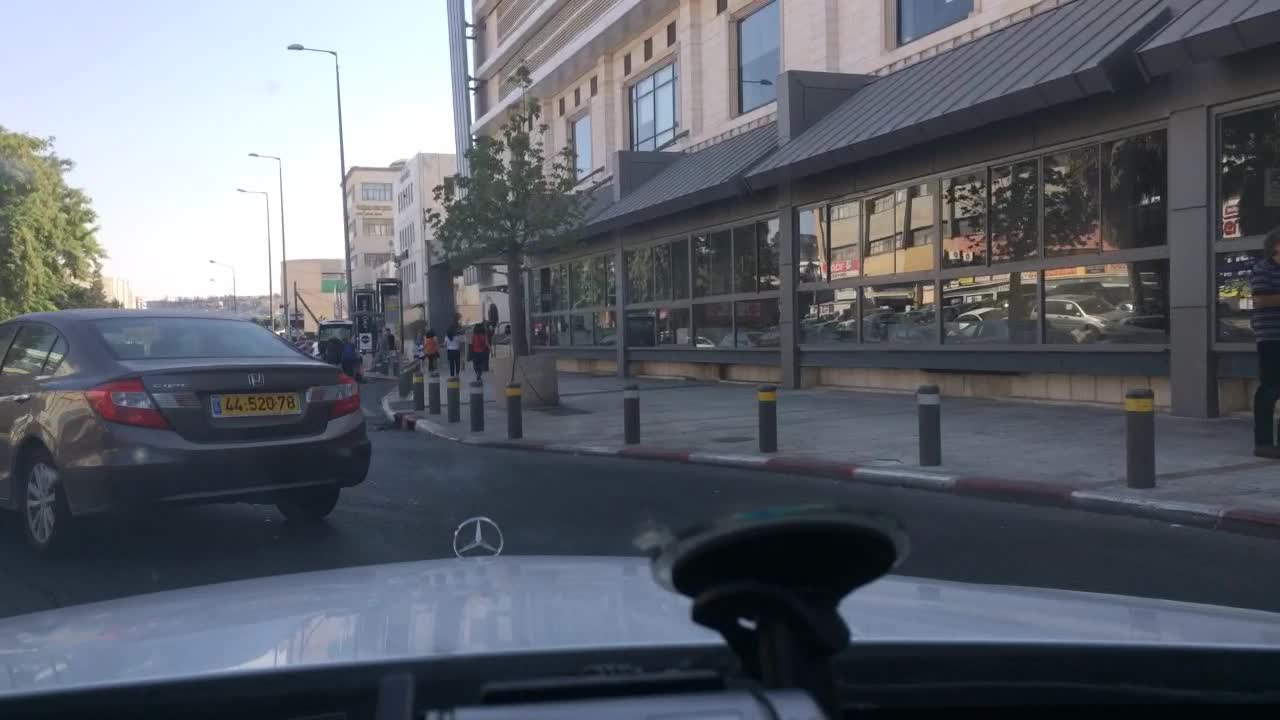car: (0, 305, 374, 550)
person: (1247, 228, 1279, 458), (464, 321, 494, 379), (440, 325, 465, 375), (420, 325, 442, 373), (336, 335, 359, 379), (319, 331, 344, 365), (381, 326, 398, 365), (482, 321, 494, 346)
